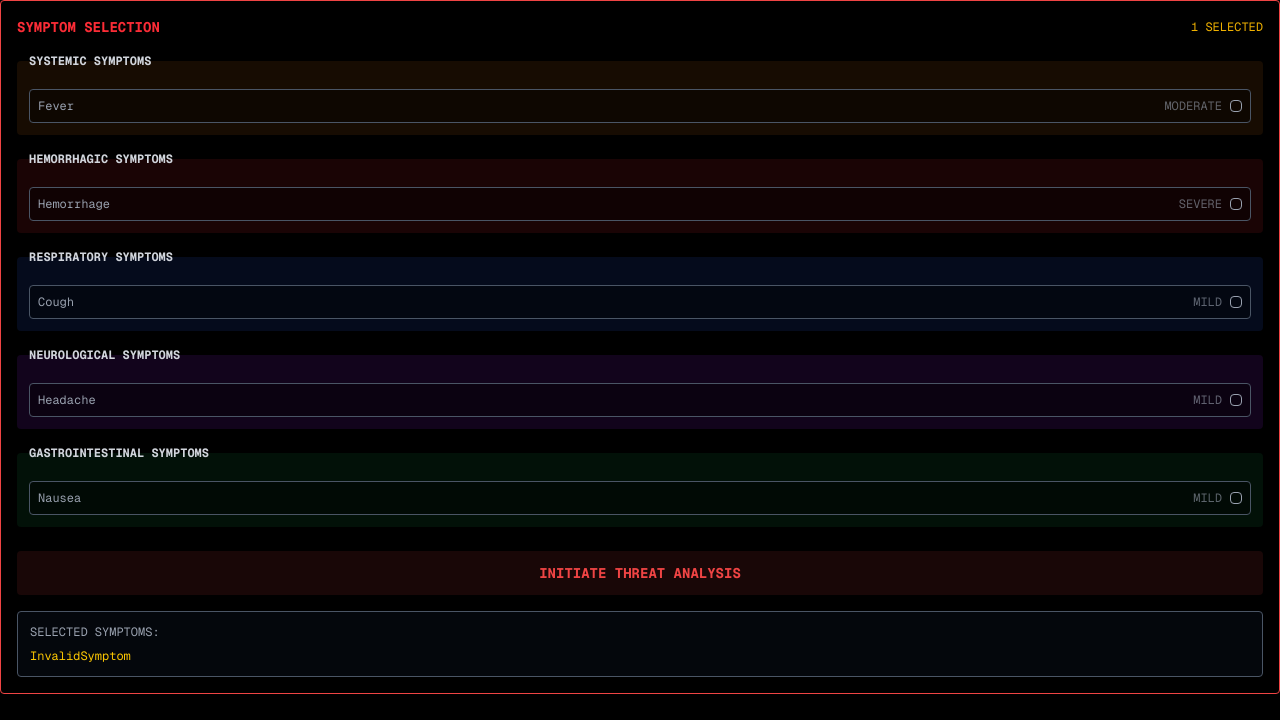
Test: SymptomSelector › shows validation error for invalid symptoms
Click the button "INITIATE THREAT ANALYSIS": (640, 573) [17,551,1263,595]
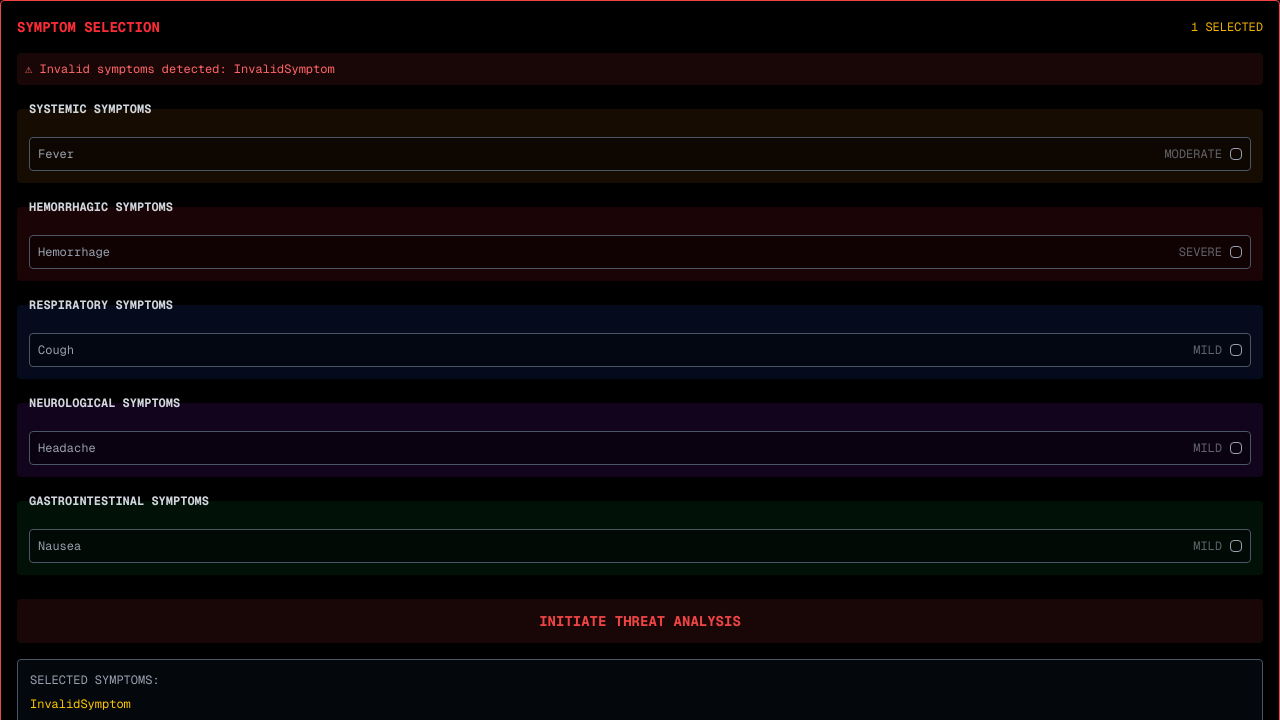
Expected: the text "⚠ Invalid symptoms detected: InvalidSymptom" is shown, [25,61,335,77]
